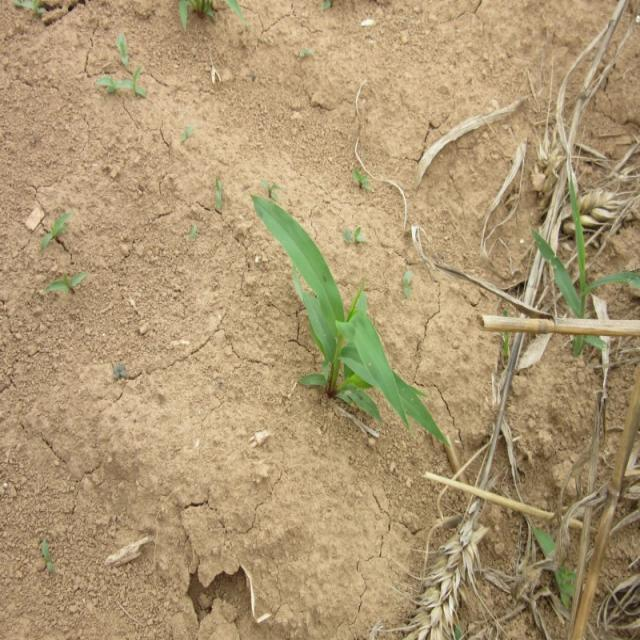bg: (253, 187, 453, 455)
